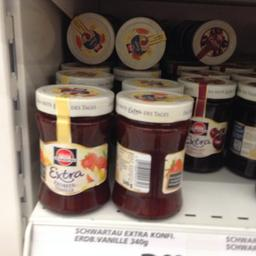jam: (33, 82, 113, 214), (114, 90, 193, 220), (180, 72, 234, 171)
